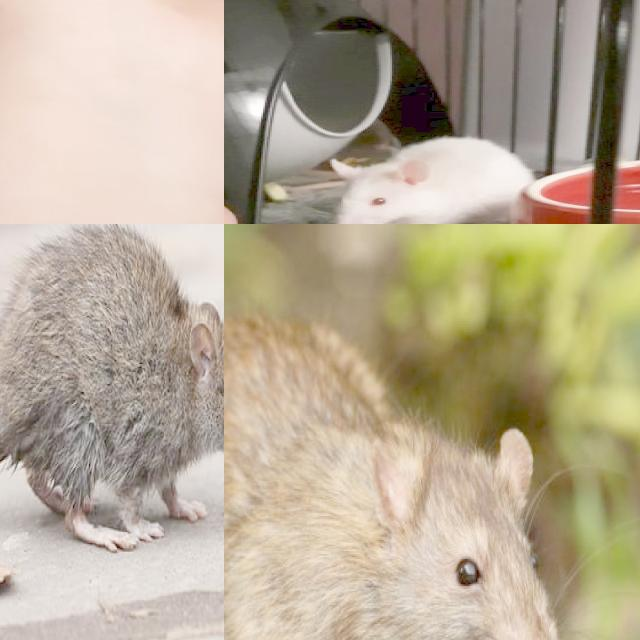rat: (224, 322, 561, 640), (0, 224, 224, 557), (328, 132, 527, 224)
